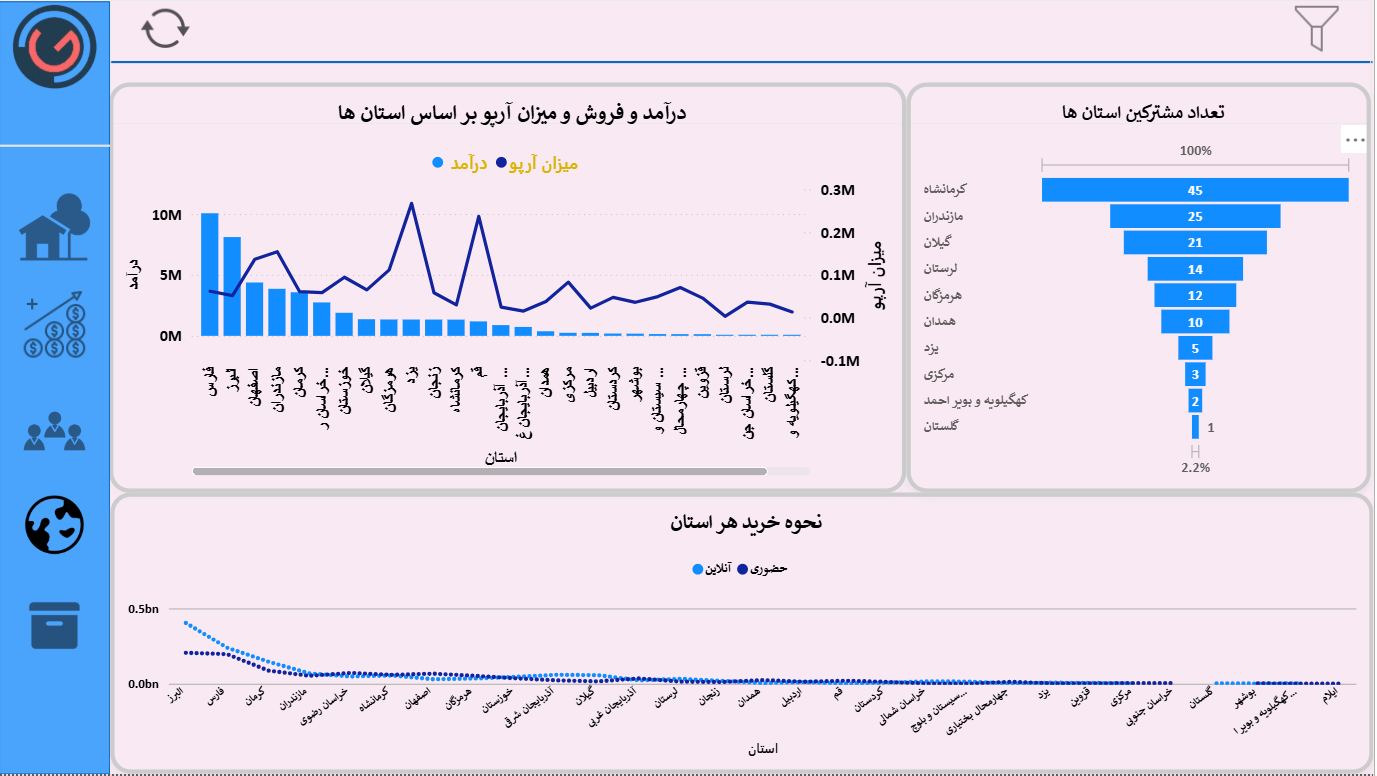

Layout of this report page (visuals, bound fields, positions):
{"tool":"powerbi","page":{"name":"تحلیل فروش استان ها","canvas":[1280,720],"ordinal":3},"visuals":[{"type":"shape","box":[103,0,1174.3,115.4],"z":0},{"type":"shape","box":[0,0.8,103.3,719.2],"z":0,"group":"g1"},{"type":"image","box":[0,0,103.3,90.1],"z":1000,"group":"g1"},{"type":"image","box":[1181,3.5,91,46],"z":1000,"group":"g2"},{"type":"lineStackedColumnComboChart","title":" درآمد و فروش و میزان آرپو بر اساس استان ها","fields":{"Category":["فروش (2).استان"],"Y":["Sum(فروش (2).درآمد)"],"Y2":["measures(1).میزان آرپو"]},"box":[102.7,76.6,741.8,381.7],"z":1000},{"type":"group","id":"g1","title":"Group 1","box":[0,0,103.3,720],"z":2000},{"type":"shape","box":[0,58.8,103.3,152.5],"z":2000,"group":"g1"},{"type":"funnel","title":"تعداد مشترکین استان ها","fields":{"Category":["فروش (2).استان"],"Y":["Count(فروش (2).کد مشترک)"]},"box":[844.5,76.6,432.4,381.7],"z":3000},{"type":"image","box":[0,178.1,103.3,66],"z":3000,"group":"g1"},{"type":"image","box":[0,270.2,103.3,63.6],"z":4000,"group":"g1"},{"type":"lineChart","title":"نحوه خرید هر استان","fields":{"Category":["فروش (2).استان"],"Y":["Sum(فروش (2).مبلغ خالص)"],"Series":["فروش (2).نحوه خرید"]},"box":[103,458,1175.5,261.9],"z":4000},{"type":"image","box":[0,360.2,103.3,80.5],"z":5000,"group":"g1"},{"type":"image","box":[0,457.7,103,59.8],"z":6000,"group":"g1"},{"type":"group","id":"g2","title":"Group 3","box":[1075,0,205,720.4],"z":7000},{"type":"image","box":[0,552.3,103.3,58.8],"z":7000,"group":"g1"},{"type":"image","box":[115.4,3.7,79.4,45.9],"z":8000}]}

Visuals, with their boxes on the page's 1280x720 design canvas (x1, y1, x2, y2). These are canvas units, not pixel positions in the 1377x776 screenshot, which may show the page scaled, cropped or inside an application window:
shape: (103, 0, 1277, 115)
shape: (0, 1, 103, 720)
image: (0, 0, 103, 90)
image: (1181, 4, 1272, 50)
" درآمد و فروش و میزان آرپو بر اساس استان ها" lineStackedColumnComboChart: (103, 77, 844, 458)
"Group 1" group: (0, 0, 103, 720)
shape: (0, 59, 103, 211)
"تعداد مشترکین استان ها" funnel: (844, 77, 1277, 458)
image: (0, 178, 103, 244)
image: (0, 270, 103, 334)
"نحوه خرید هر استان" lineChart: (103, 458, 1278, 720)
image: (0, 360, 103, 441)
image: (0, 458, 103, 518)
"Group 3" group: (1075, 0, 1280, 720)
image: (0, 552, 103, 611)
image: (115, 4, 195, 50)
